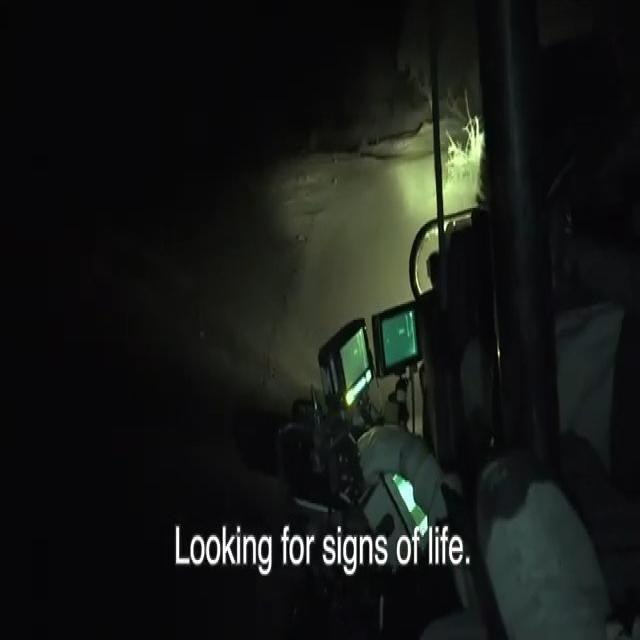device: (241, 228, 494, 511)
